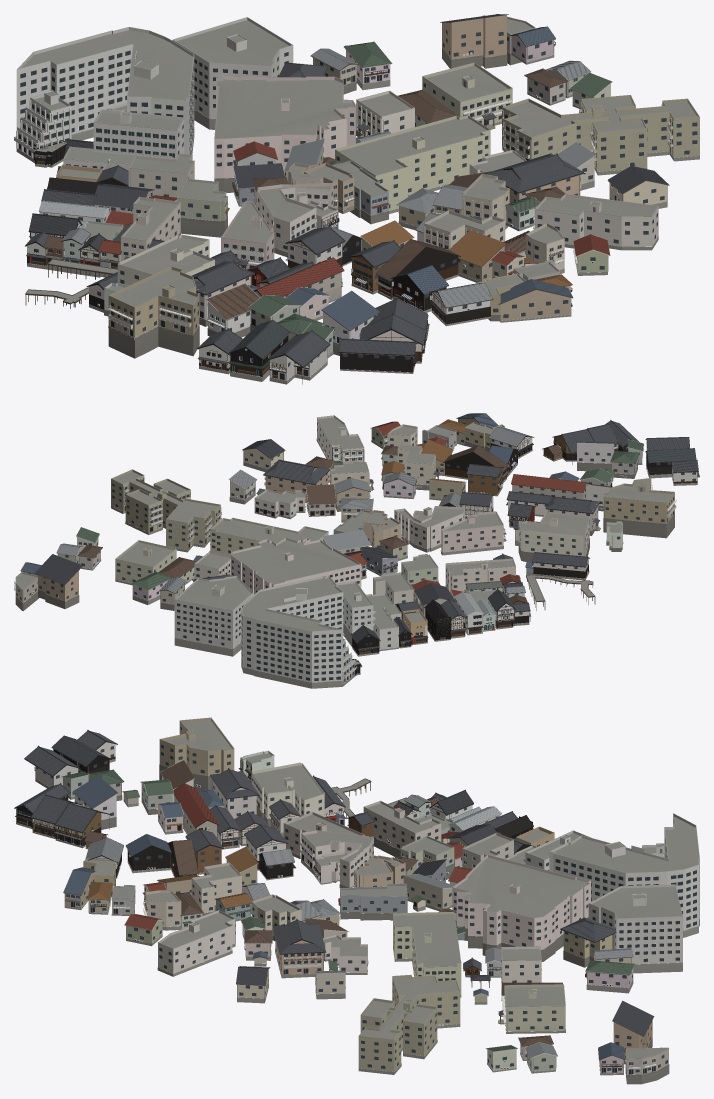
The model's file is buildings_A.glb.
3 views of the same model, one above another, from view 1: azimuth 30°, elevation 25°; view 2: azimuth 150°, elevation 25°; view 3: azimuth 270°, elevation 25° (orthographic). The views are drawn at different scales.
Parts seen in each view (by area): view 1: Bld_A_wall, Bld_A_metal, Bld_A_roof, Bld_A_wood, Bld_A_glass, Bld_A_stone; view 2: Bld_A_wall, Bld_A_metal, Bld_A_wood, Bld_A_glass, Bld_A_roof, Bld_A_stone, Bld_A_dark; view 3: Bld_A_wall, Bld_A_metal, Bld_A_wood, Bld_A_roof, Bld_A_glass, Bld_A_stone.
Boxes of the visible parts, x1,y1,x2,y2 form: Bld_A_wall: (14,15,699,380); Bld_A_metal: (14,14,699,384); Bld_A_roof: (25,62,583,372); Bld_A_wood: (25,14,672,378); Bld_A_glass: (18,29,697,379); Bld_A_stone: (16,48,699,384); Bld_A_wall: (14,415,697,683); Bld_A_metal: (14,413,698,681); Bld_A_wood: (20,413,699,674); Bld_A_glass: (16,422,695,681); Bld_A_roof: (192,420,699,668); Bld_A_stone: (15,438,697,688); Bld_A_dark: (31,446,625,652); Bld_A_wall: (33,717,699,1074); Bld_A_metal: (15,717,699,1074); Bld_A_wood: (14,731,654,1067); Bld_A_roof: (15,730,615,1015); Bld_A_glass: (17,727,696,1074); Bld_A_stone: (16,758,699,1084).
Size of the model in its own units: 246 by 39.81 by 255.
